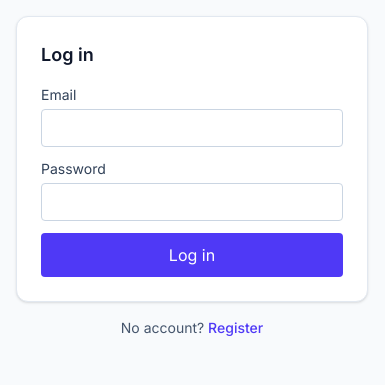
LoginPage › shows an inline error on wrong credentials without navigating
Type "alice@example.com" into the field labelled "Email" at point(192, 128), box [41,109,343,147]
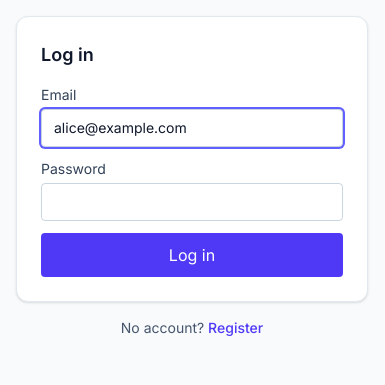
Type "wrong-password" into the password field labelled "Password" at point(192, 202), box [41,183,343,221]
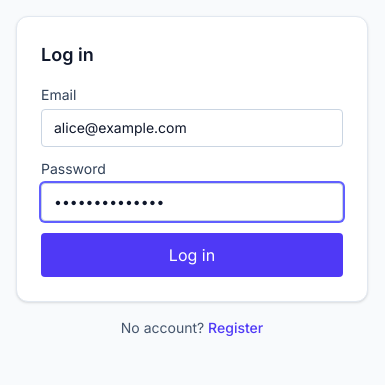
Click the button "Log in" at point(192, 255), box [41,233,343,277]
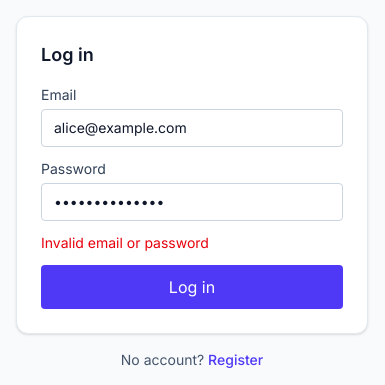
Expected: the message reads "Invalid email or password", [41,234,209,251]
